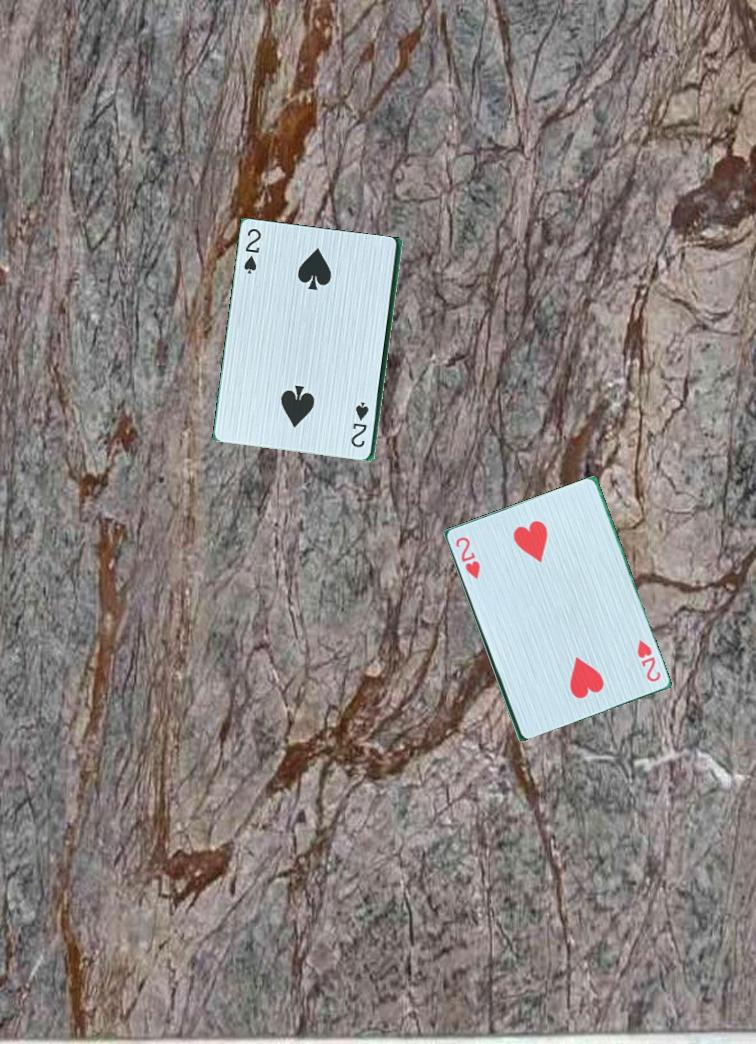2h: (451, 533, 483, 582), (633, 633, 663, 685)
2s: (240, 225, 264, 282), (349, 399, 372, 456)
